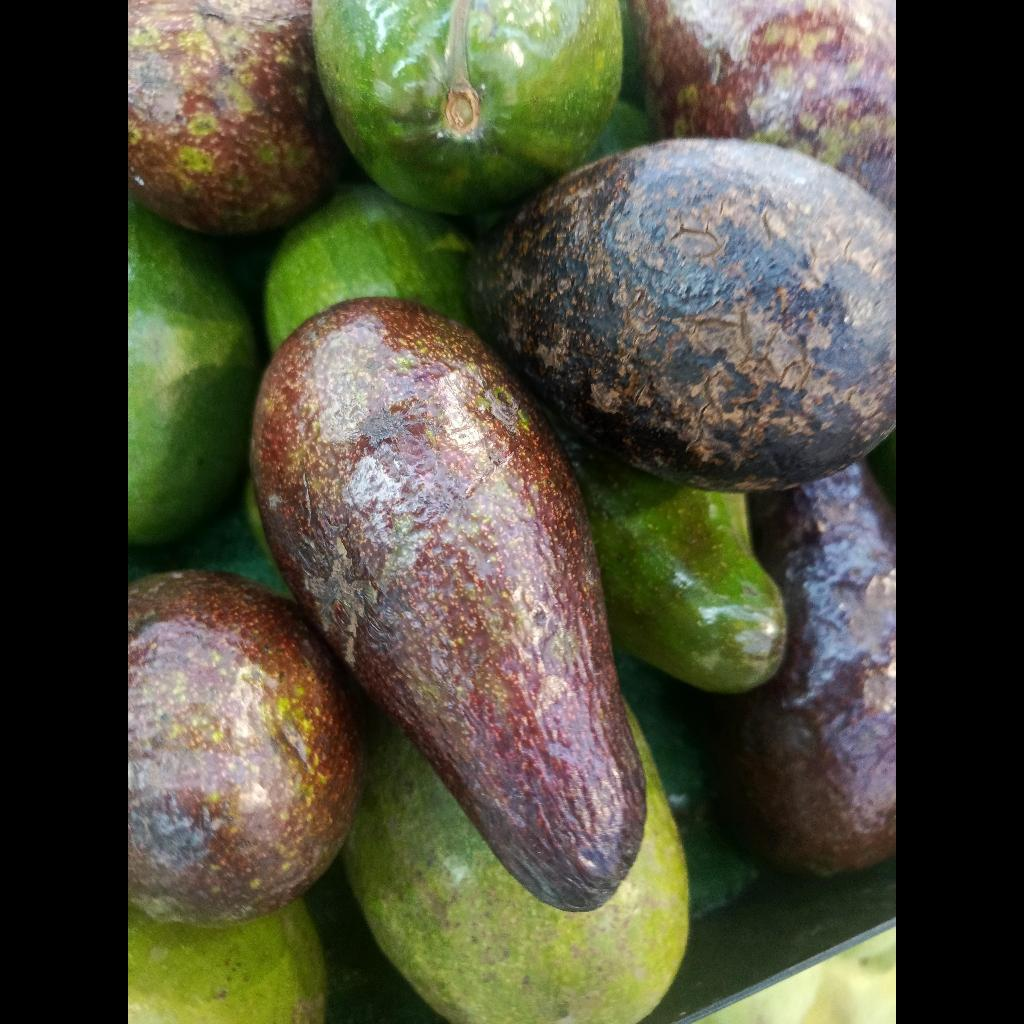antracnosis_fruto: (252, 298, 646, 911), (468, 139, 896, 490), (128, 571, 364, 925), (128, 0, 342, 235)
rona: (252, 298, 644, 911), (468, 139, 896, 490), (711, 461, 896, 875), (313, 0, 622, 215), (628, 0, 896, 212), (373, 79, 392, 101)
